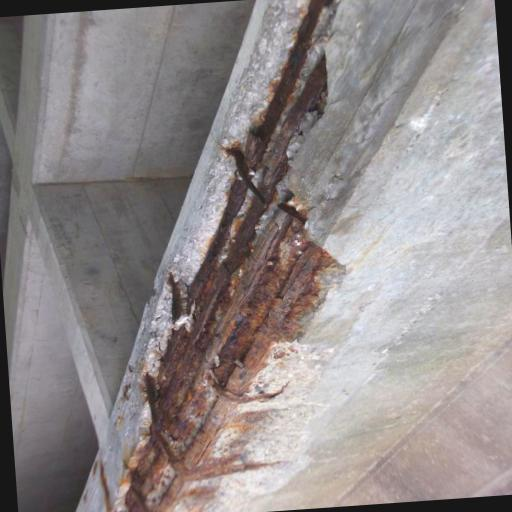spalling: (87, 9, 350, 512)
